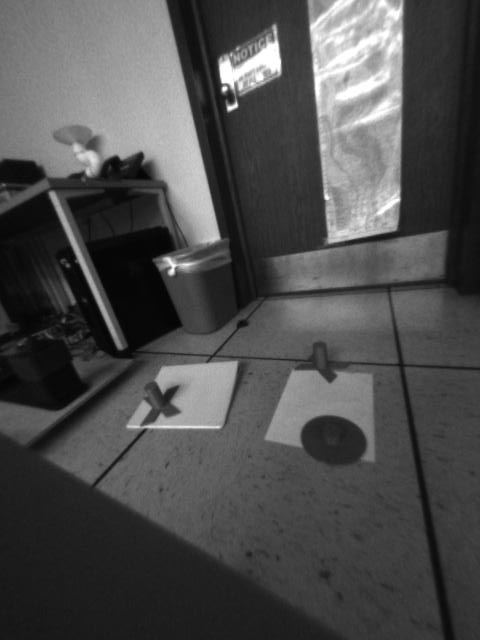X: (291, 342, 352, 383), (138, 379, 181, 424)
